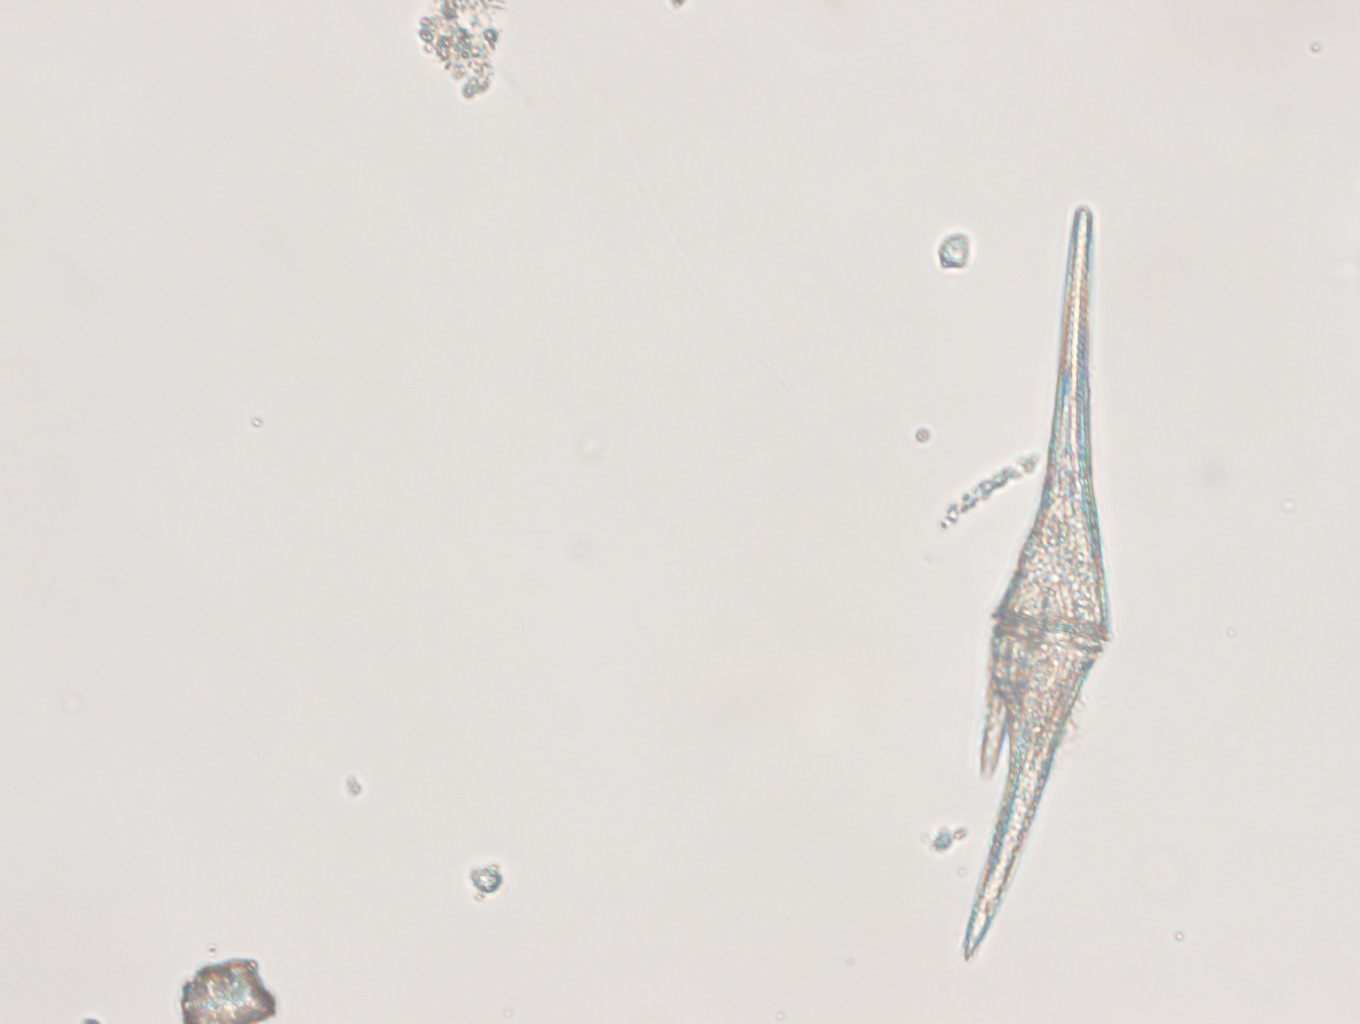ceratium furca: (912, 183, 1137, 973)
